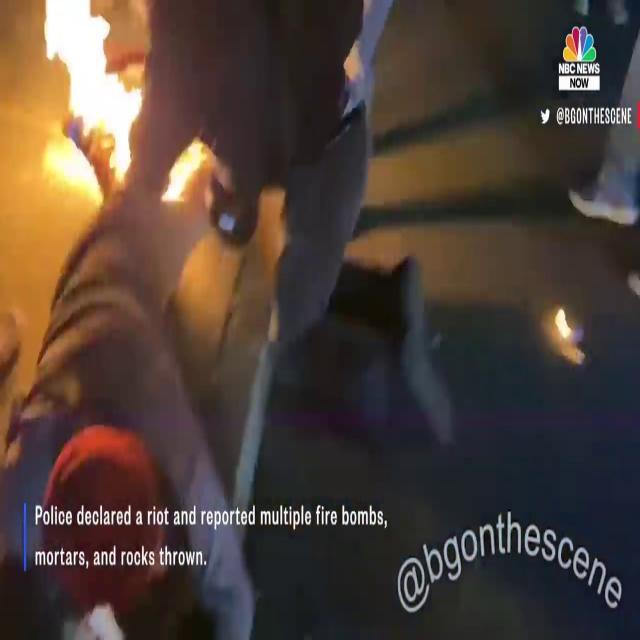Fire: (20, 0, 151, 189), (548, 300, 586, 360)
